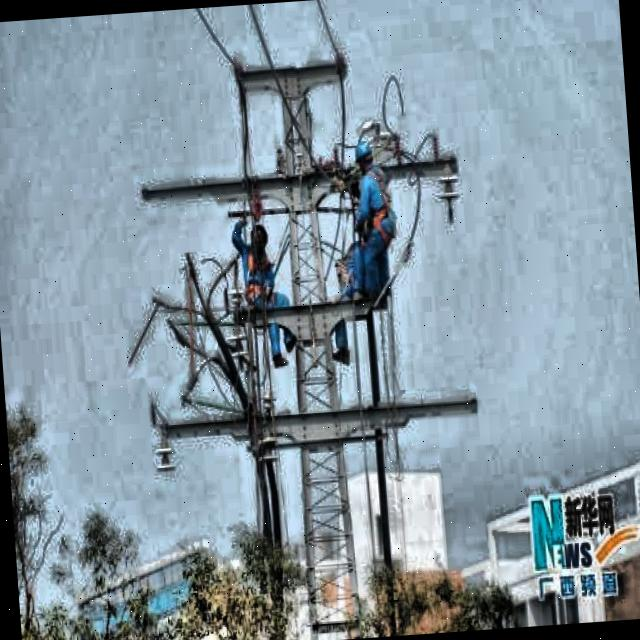helmet: (353, 134, 378, 176)
